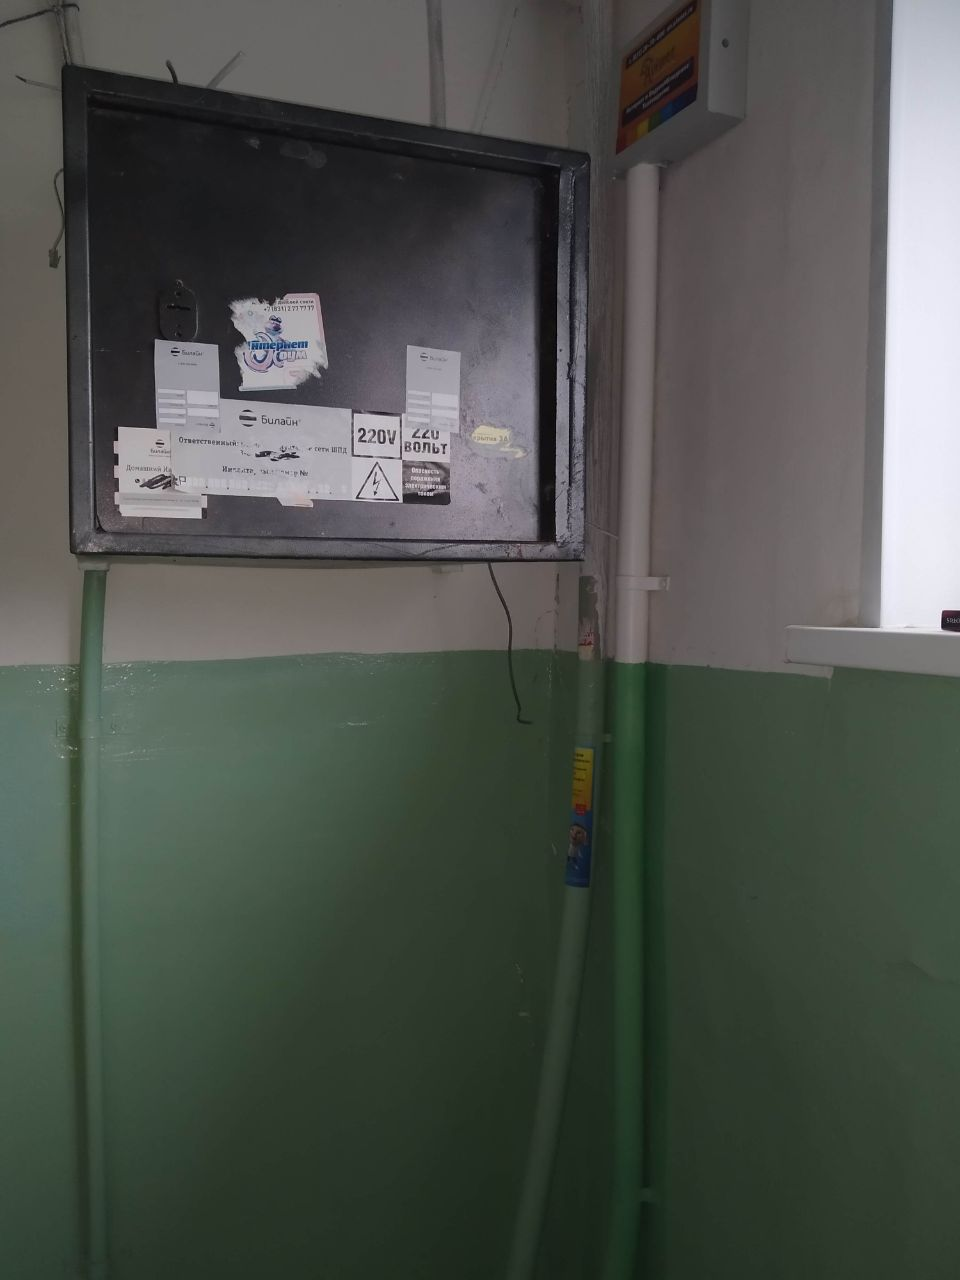shta-9m: (46, 47, 615, 580)
